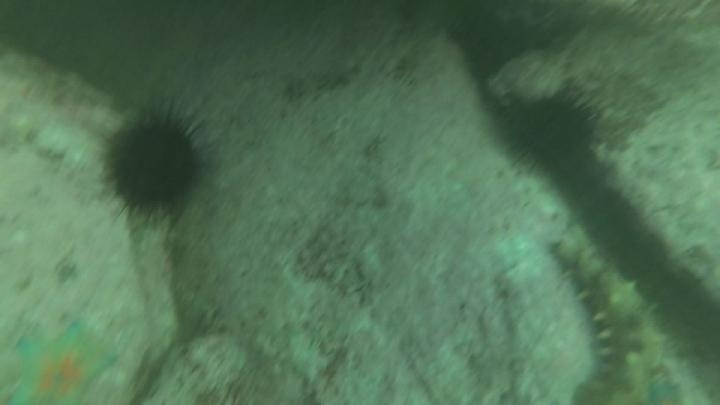echinus: (100, 104, 213, 223), (501, 86, 600, 174)
holothurian: (548, 237, 671, 399)
starfish: (7, 319, 122, 404), (642, 377, 687, 404)
